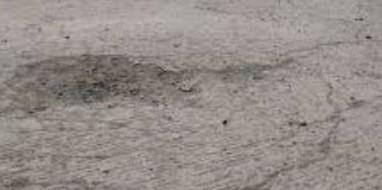pothole: (7, 45, 206, 128)
